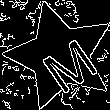M_NW: (25, 21, 95, 90)
